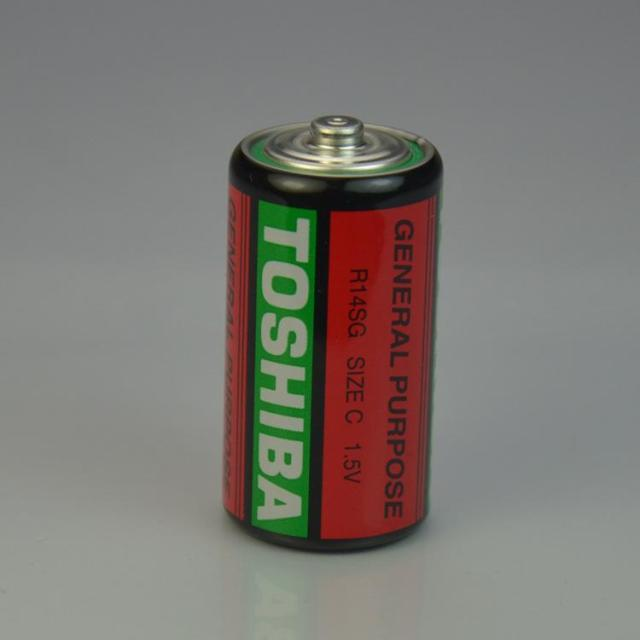-Hazardous waste - battery-: (227, 111, 445, 554)
